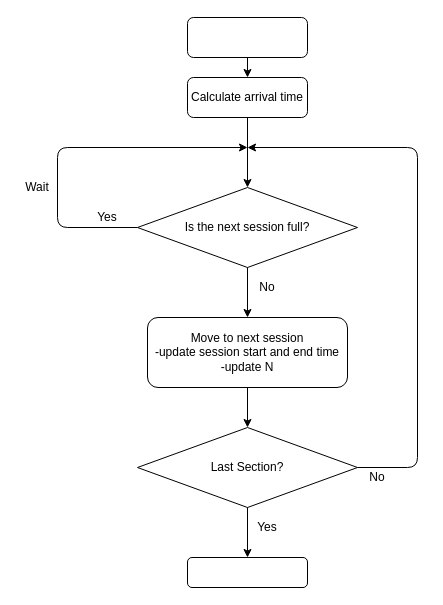
The diagram is 443 pixels wide and 605 high, and some of its shapes have lost their labels. The centre of each missing label's shape, as x and y in pixels:
END: [247,572]
START: [247,37]
